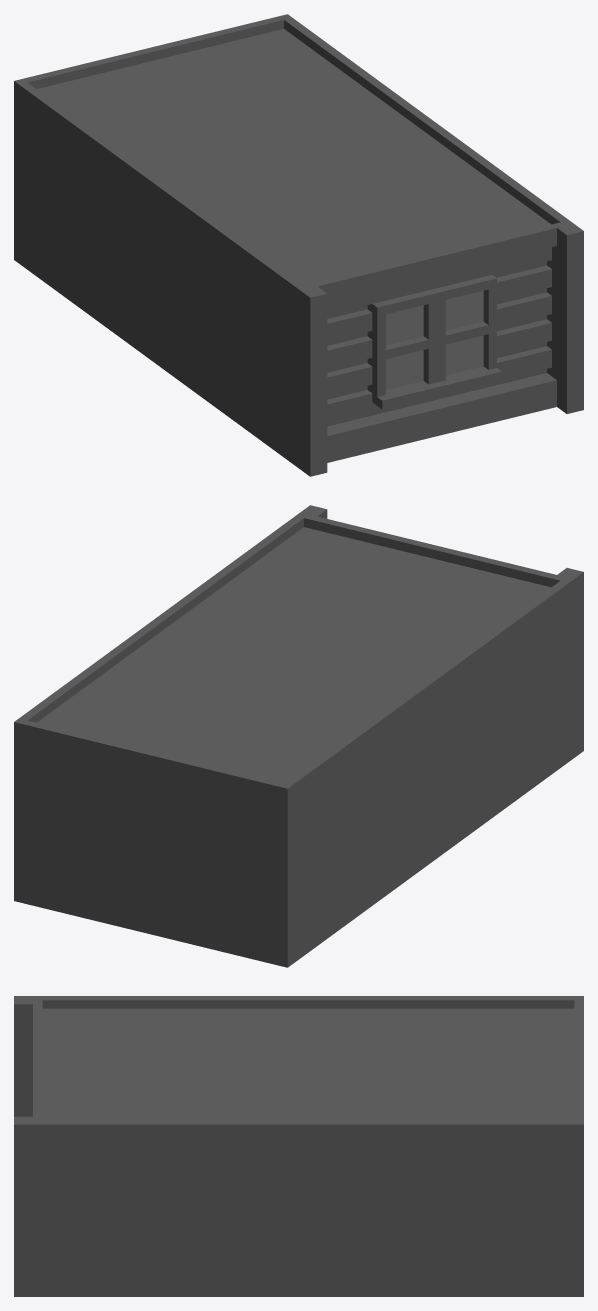
Rendered from bld_story03a.obj.
The picture shows the model from 3 angles, top to bottom: view 1: azimuth 30°, elevation 25°; view 2: azimuth 150°, elevation 25°; view 3: azimuth 270°, elevation 25°; orthographic projection. The views are drawn at different scales.
Bounding box in the file's own units: 32 × 20 × 60.
